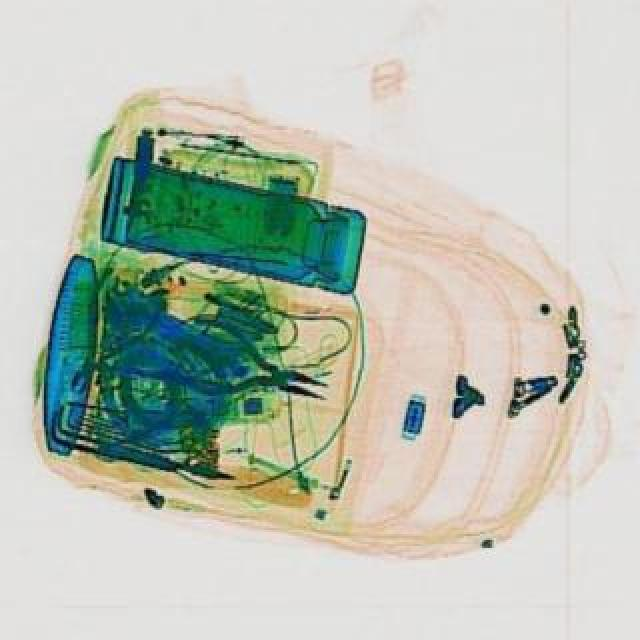wrench: (172, 316, 346, 432)
